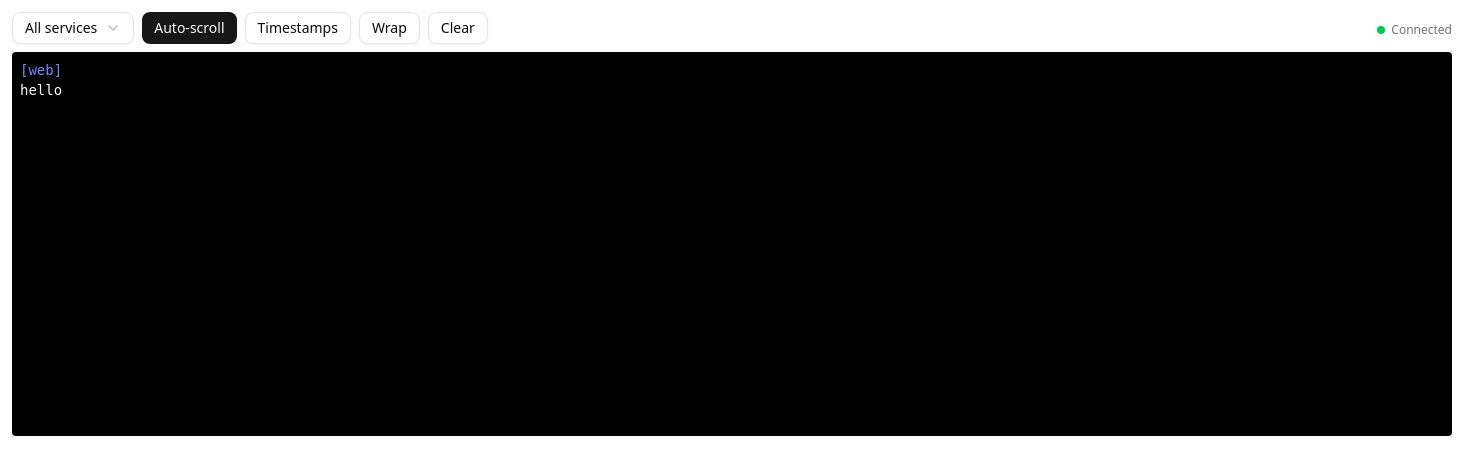
Test: LogViewer (OBS-07, OBS-09) › clicking Timestamps adds an HH:MM:SS timestamp before each line
This screenshot has width=1464, height=453.
Click the button "Timestamps" at (298, 28), box [244,12,351,44]
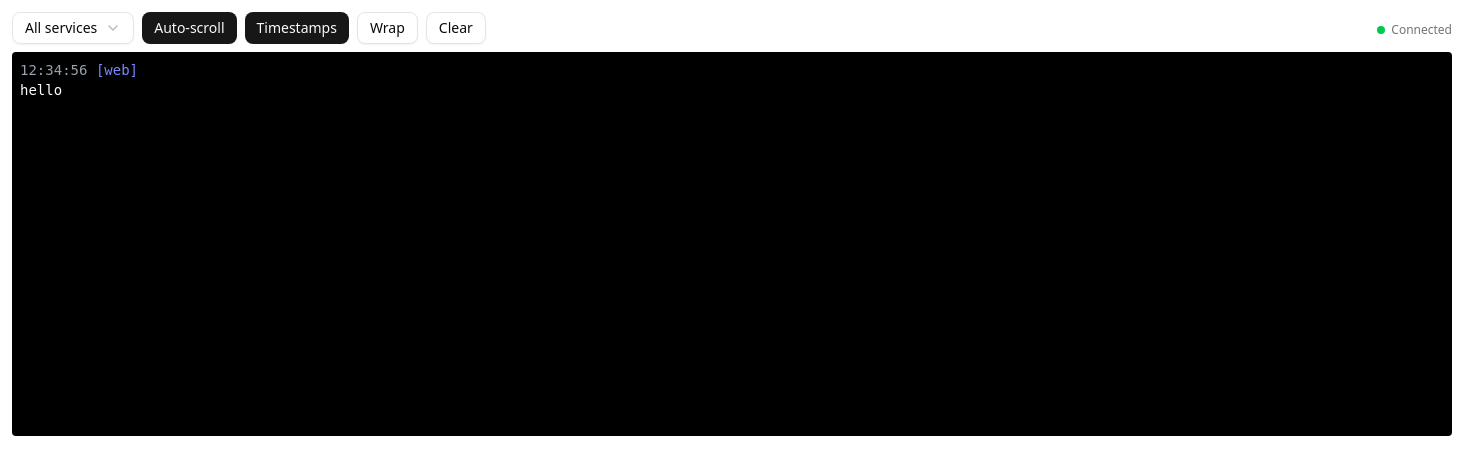
Result: the text "12:34:56" is shown at [20,62,96,78]
